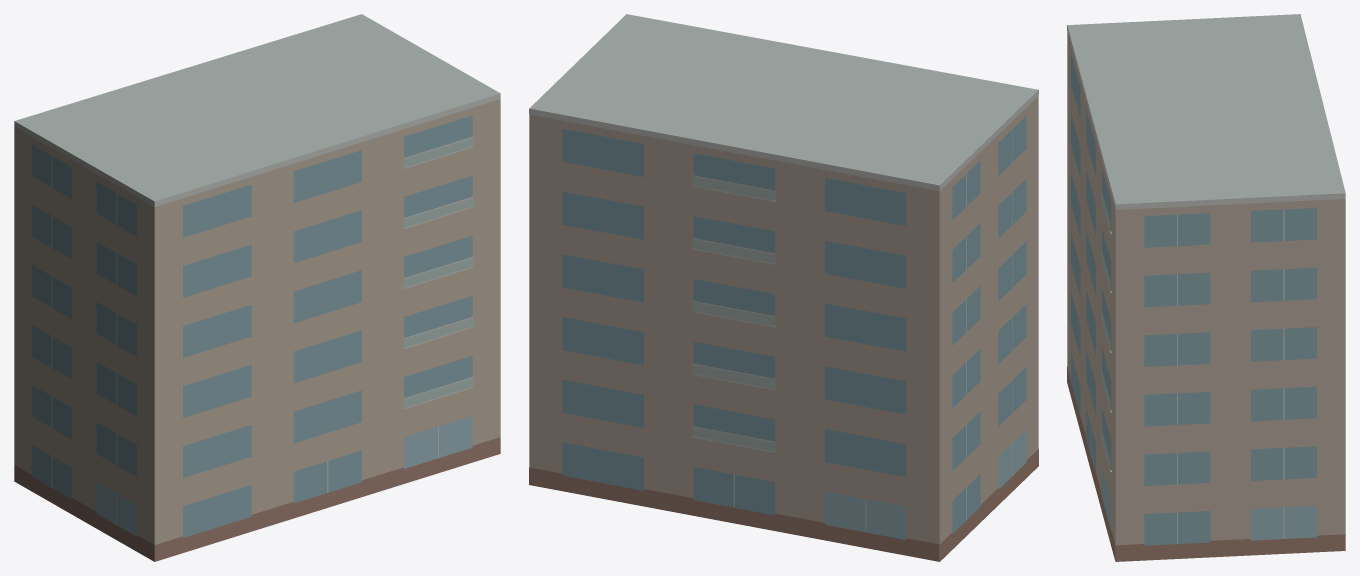
File: survey-upis-32941200.glb
The picture shows the model from 3 angles, left to right: view 1: azimuth 30°, elevation 25°; view 2: azimuth 150°, elevation 25°; view 3: azimuth 270°, elevation 25°; orthographic projection. The views are drawn at different scales.
Parts seen in each view (by area): view 1: survey-upis-32941200.tmp; view 2: survey-upis-32941200.tmp; view 3: survey-upis-32941200.tmp.
Boxes of the visible parts, x1,y1,x2,y2 form: survey-upis-32941200.tmp: (14,14,500,561); survey-upis-32941200.tmp: (529,14,1038,561); survey-upis-32941200.tmp: (1067,14,1345,561).
Bounding box in the file's own units: 18.05 × 15.8 × 11.17.
